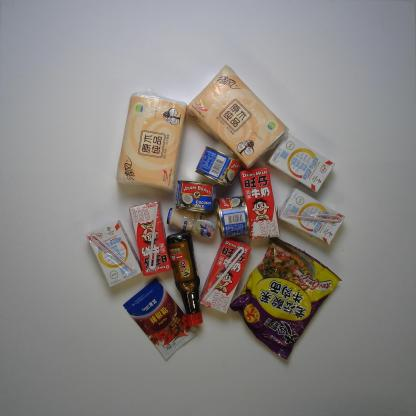Canned Food: (193, 147, 244, 186), (172, 173, 212, 213), (214, 195, 248, 237)
Instant Noodles: (230, 226, 340, 370)
Milk: (83, 217, 144, 292), (197, 241, 254, 316), (271, 185, 346, 242), (266, 129, 333, 190), (238, 162, 280, 244), (163, 195, 218, 245), (132, 202, 170, 272)
Seasoner: (123, 280, 192, 356), (160, 237, 202, 327)
Tissue: (189, 63, 280, 167), (112, 88, 186, 192)
